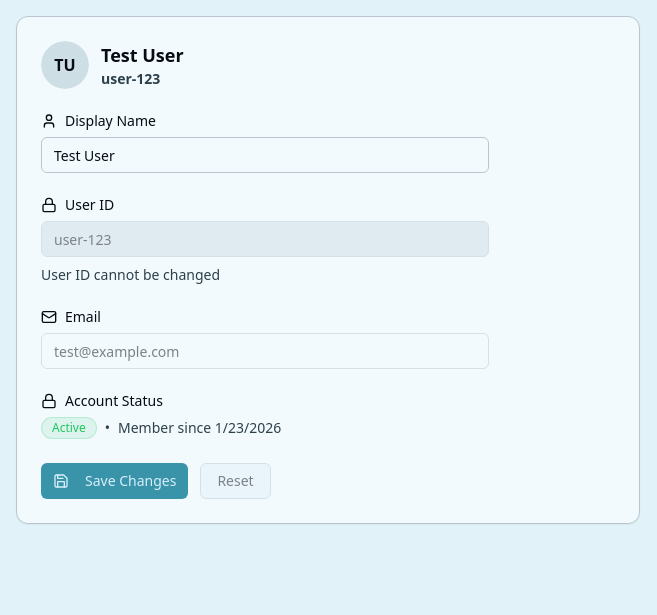
Profile Page › Profile Updates › should show success message after save
Replace the text in the field labelled "Display Name" with "Updated Name" at (265, 155), box x1=41 y1=137 x2=489 y2=173
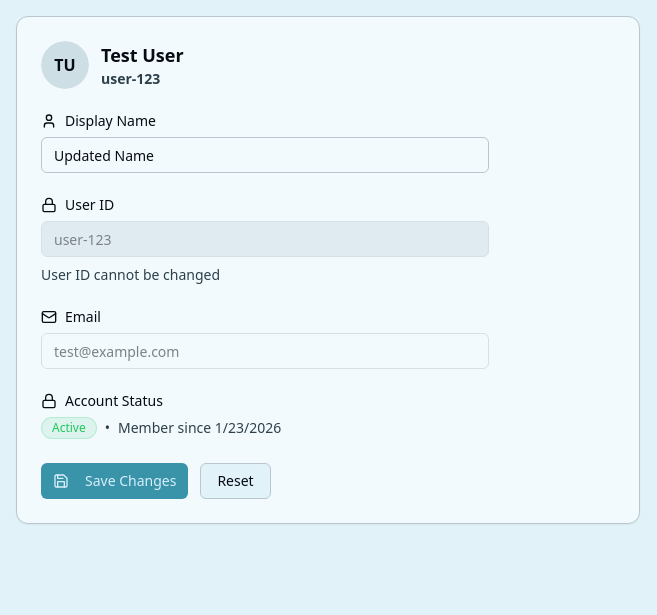
Click the button "Save Changes".
click(115, 481)  # box x1=41 y1=463 x2=188 y2=499
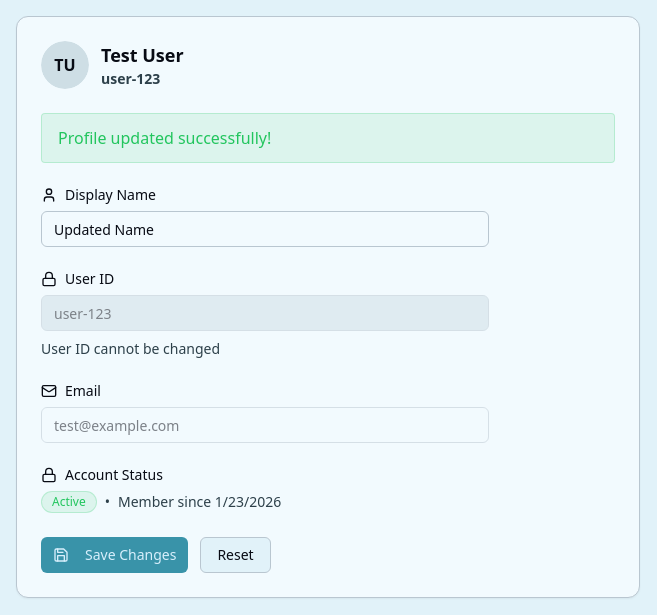
Result: the text "Profile updated successfully!" is shown at x1=41 y1=113 x2=615 y2=163
